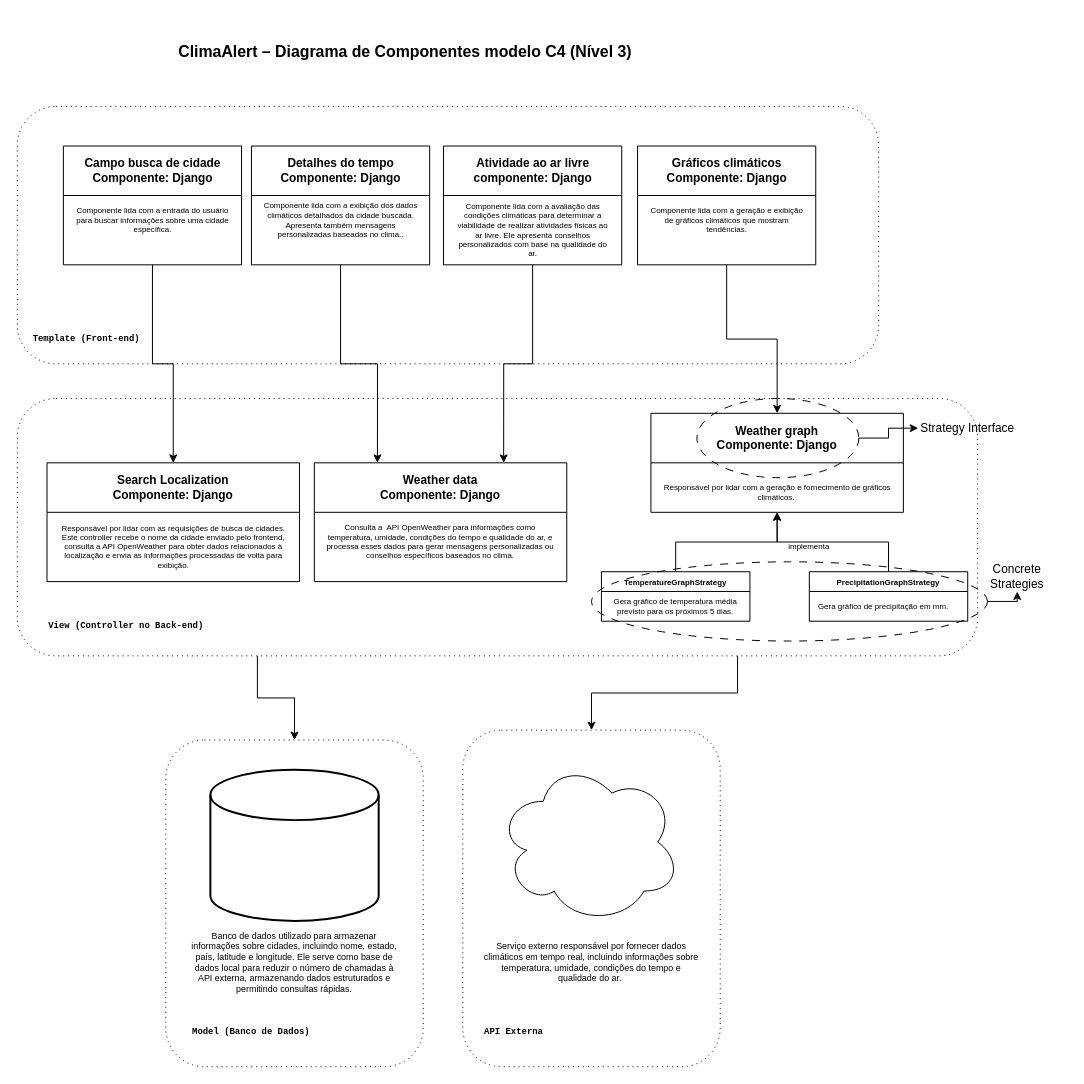
This 1084x1084 diagram has some shape labels left out. The shapes that lost their labels are listed below. From the top down, each one's centre as x and y in pixels, then its label:
At point (294, 844): "Database Database: sqLite 3".
At point (588, 842): "API API OpenWeather".
